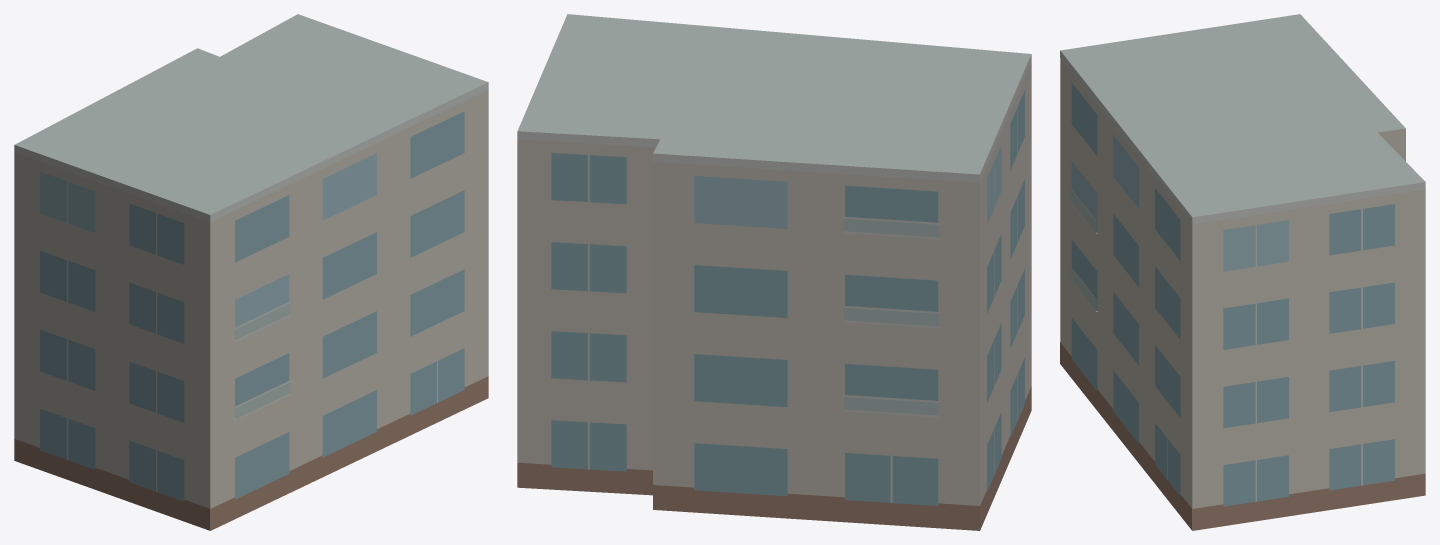
Rendered from survey-upis-32970144.glb.
The picture shows the model from 3 angles, left to right: view 1: azimuth 30°, elevation 25°; view 2: azimuth 150°, elevation 25°; view 3: azimuth 270°, elevation 25°; orthographic projection. The views are drawn at different scales.
Parts seen in each view (by area): view 1: survey-upis-32970144.tmp; view 2: survey-upis-32970144.tmp; view 3: survey-upis-32970144.tmp.
Part boxes in pixels (x1,y1,x2,y2): survey-upis-32970144.tmp: [14, 14, 488, 530]; survey-upis-32970144.tmp: [517, 14, 1031, 530]; survey-upis-32970144.tmp: [1060, 14, 1425, 530].
Bounding box in the file's own units: 14.69 × 10.55 × 11.16.
